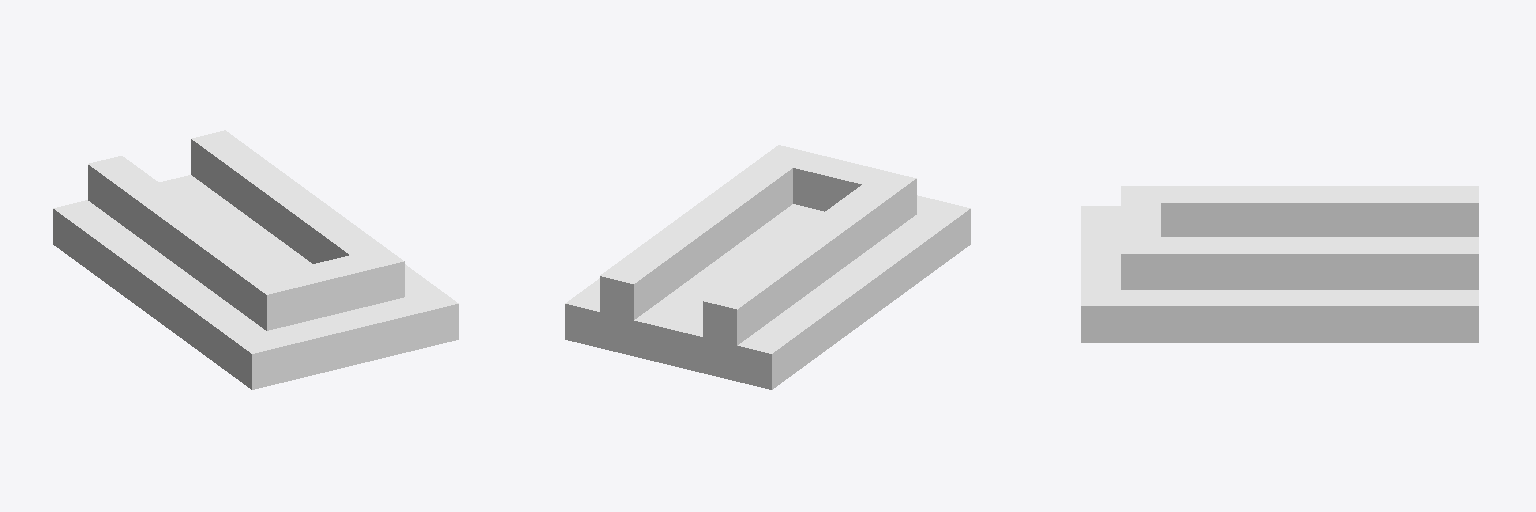
File: SawEnd.obj
3 views of the same model, side by side, from view 1: azimuth 30°, elevation 25°; view 2: azimuth 150°, elevation 25°; view 3: azimuth 270°, elevation 25° (orthographic).
Parts seen in each view (by area): view 1: object 1; view 2: object 1; view 3: object 1.
Part boxes in pixels (x1,y1,x2,y2): object 1: (53, 130, 458, 389); object 1: (565, 145, 970, 389); object 1: (1081, 186, 1478, 342).
Bounding box in the file's own units: 0.6 × 0.2 × 1.